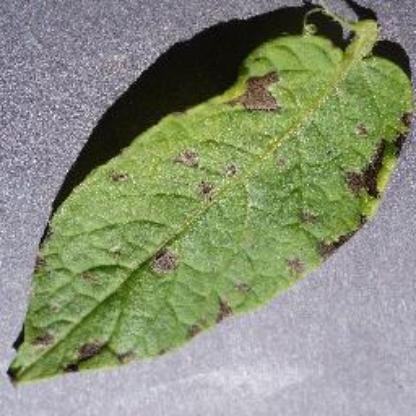Early-Blight: (10, 12, 412, 390)
